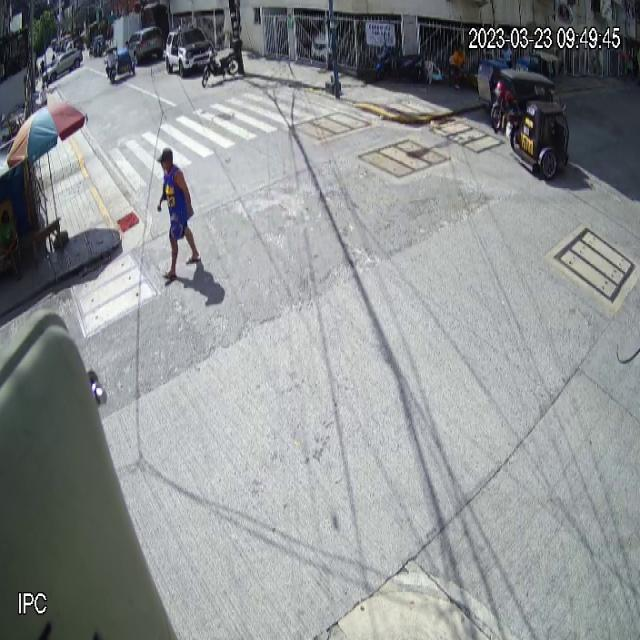Tricycle: (500, 68, 570, 180)
